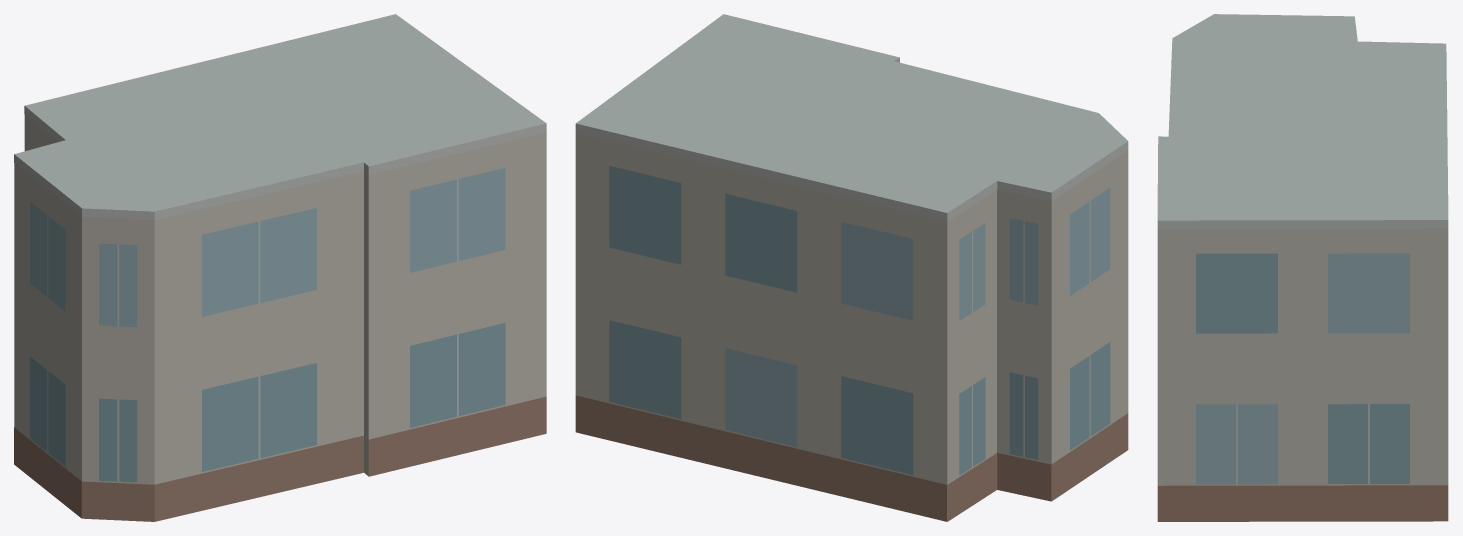
File: survey-upis-32504066.glb
3 renders of one model, left to right at view 1: azimuth 30°, elevation 25°; view 2: azimuth 150°, elevation 25°; view 3: azimuth 270°, elevation 25°, orthographic. The views are drawn at different scales.
Visible parts, largest first — view 1: survey-upis-32504066.tmp; view 2: survey-upis-32504066.tmp; view 3: survey-upis-32504066.tmp.
Part boxes in pixels (left/top/right/bottom): survey-upis-32504066.tmp: left=14, top=14, right=546, bottom=521; survey-upis-32504066.tmp: left=575, top=14, right=1128, bottom=521; survey-upis-32504066.tmp: left=1157, top=14, right=1448, bottom=521.
Bounding box in the file's own units: 12.8 × 8.7 × 7.62.
